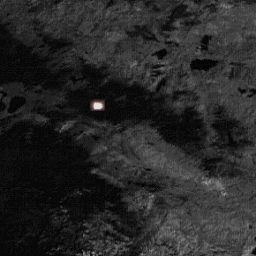Target: (91, 99, 103, 111)
